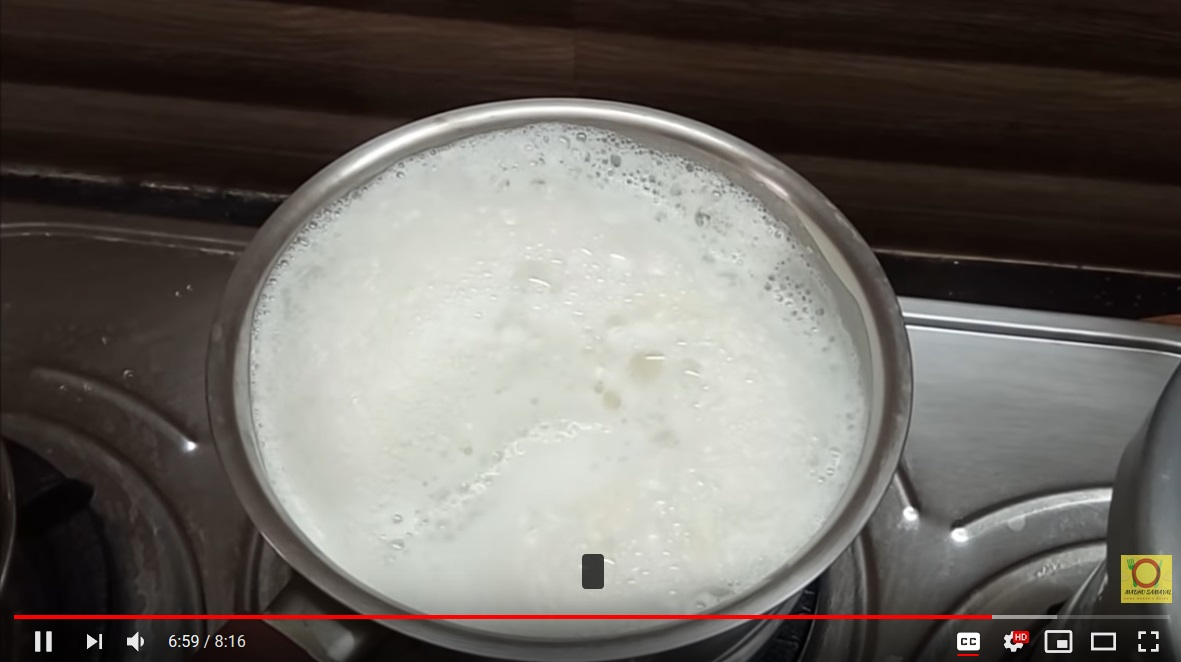Boiled: (230, 99, 889, 610)
